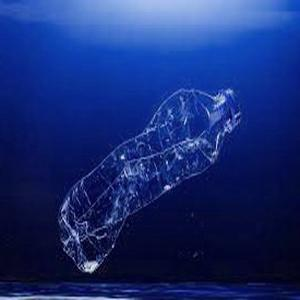Plastic: (51, 83, 240, 273)
